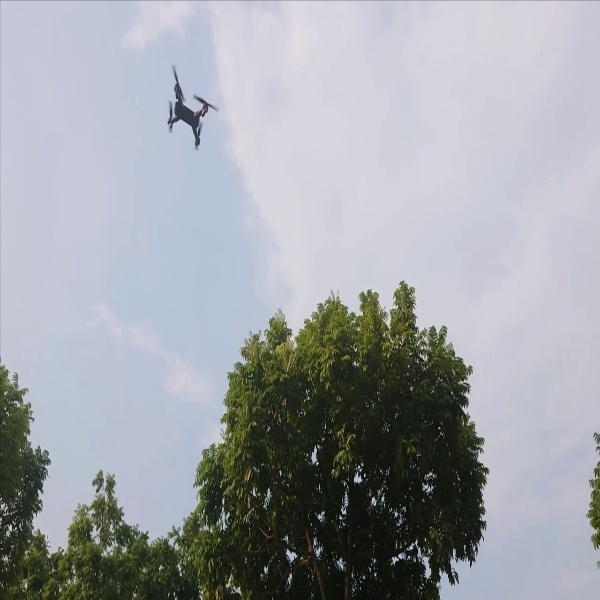drone: (161, 61, 219, 158)
